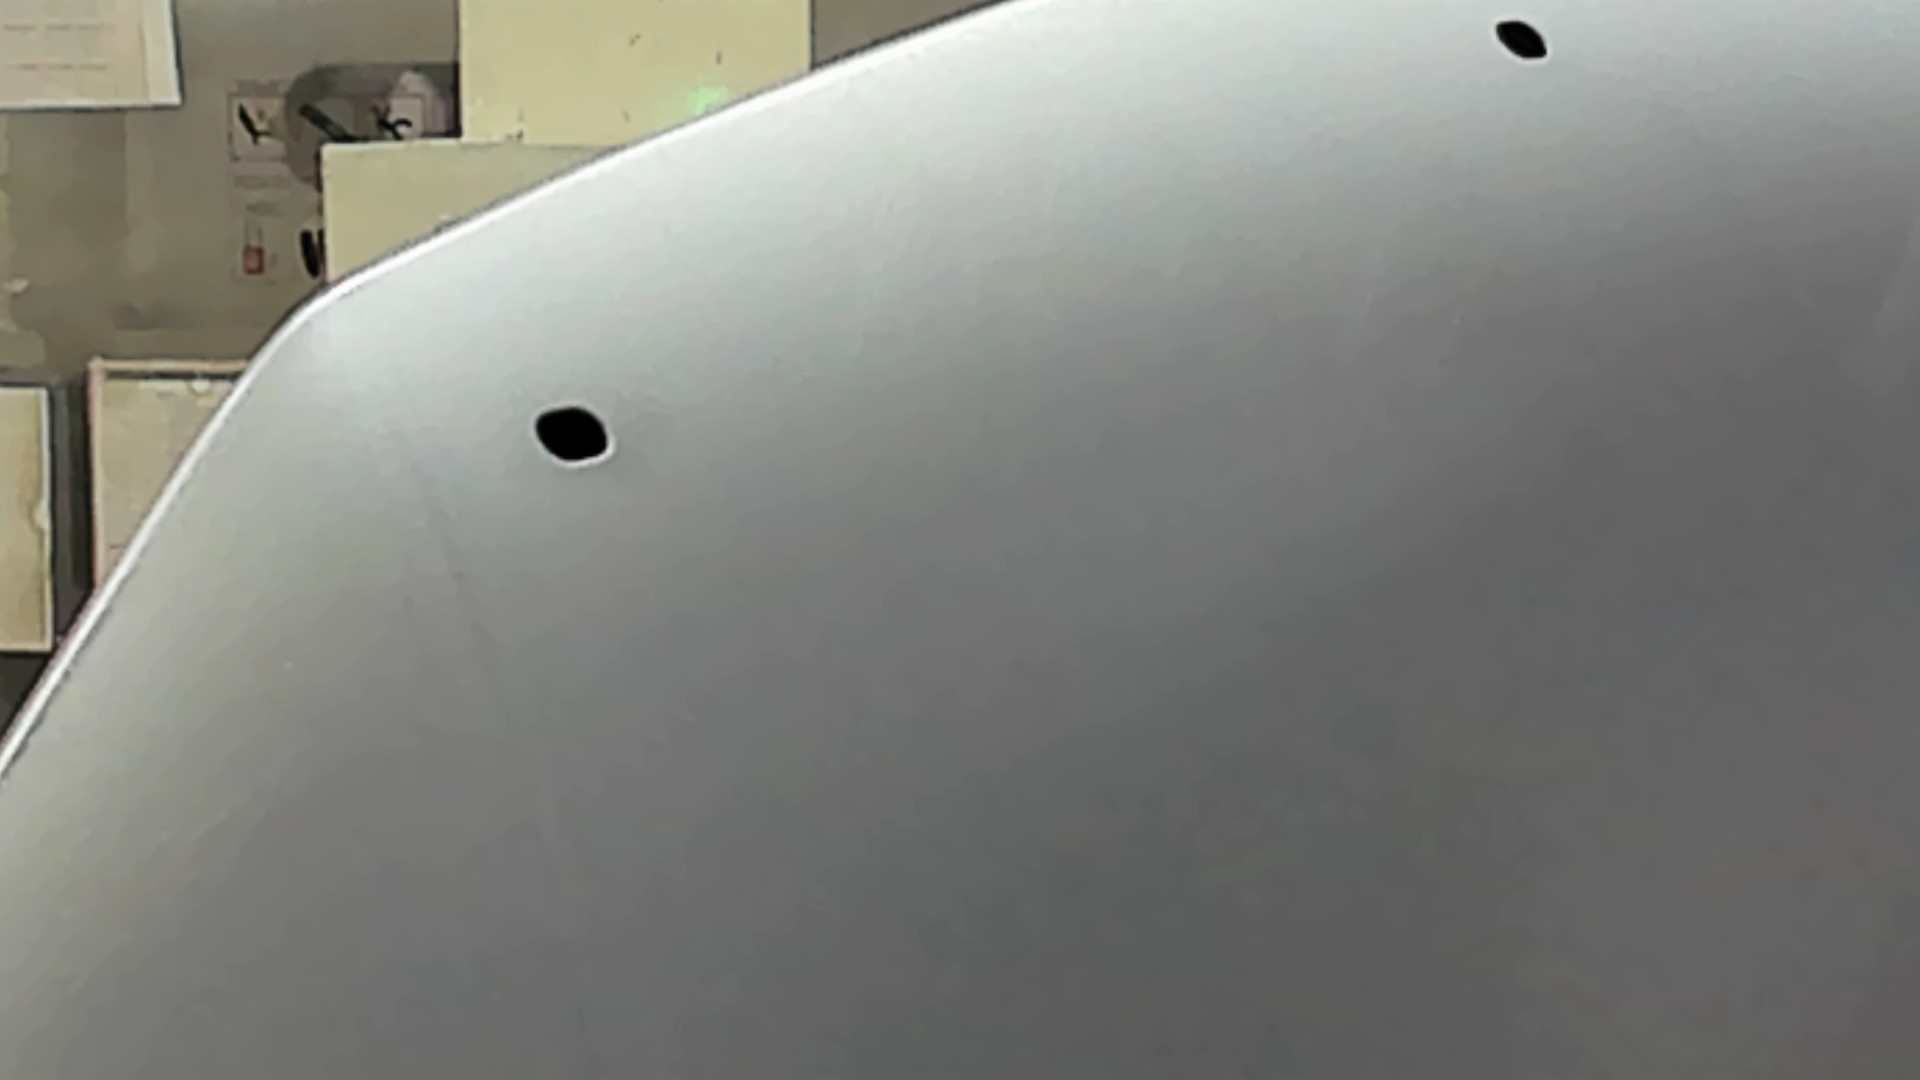chico: (516, 386, 642, 483), (1472, 5, 1575, 82)
